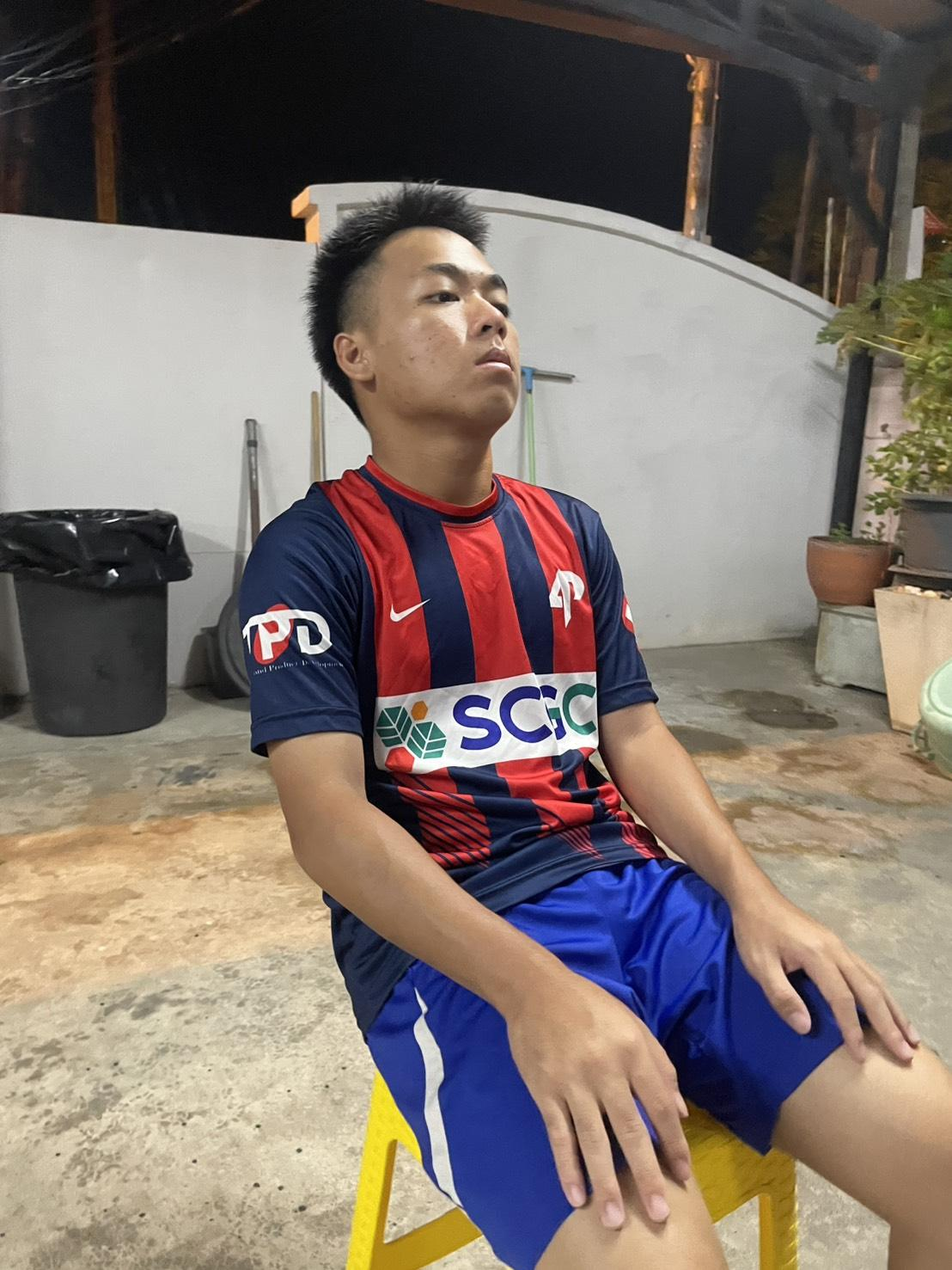BadPosture: (237, 184, 833, 1031)
